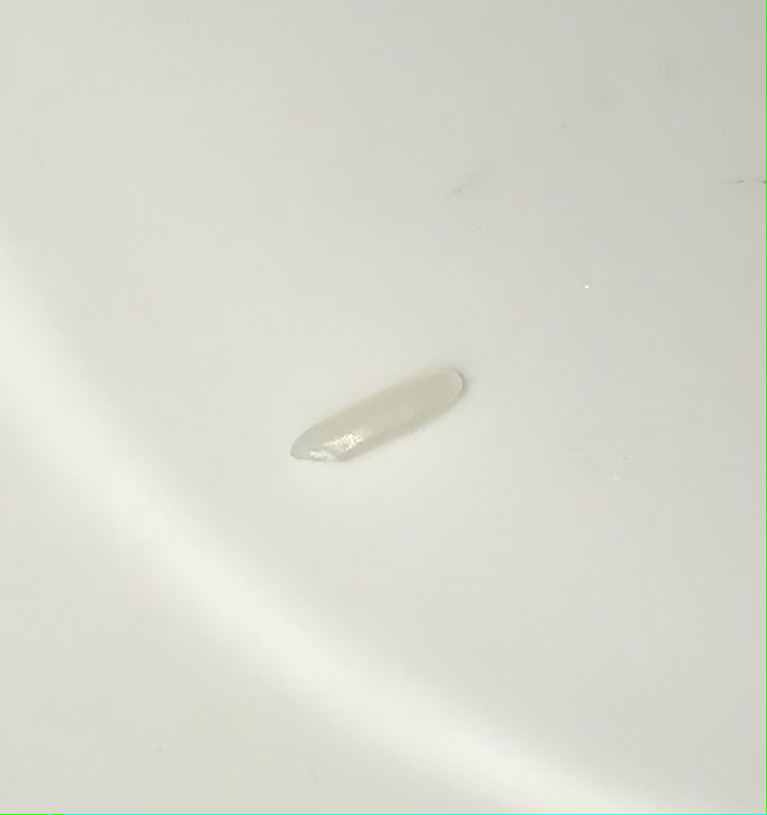Gao Ngoc Troi: (286, 360, 475, 462)
